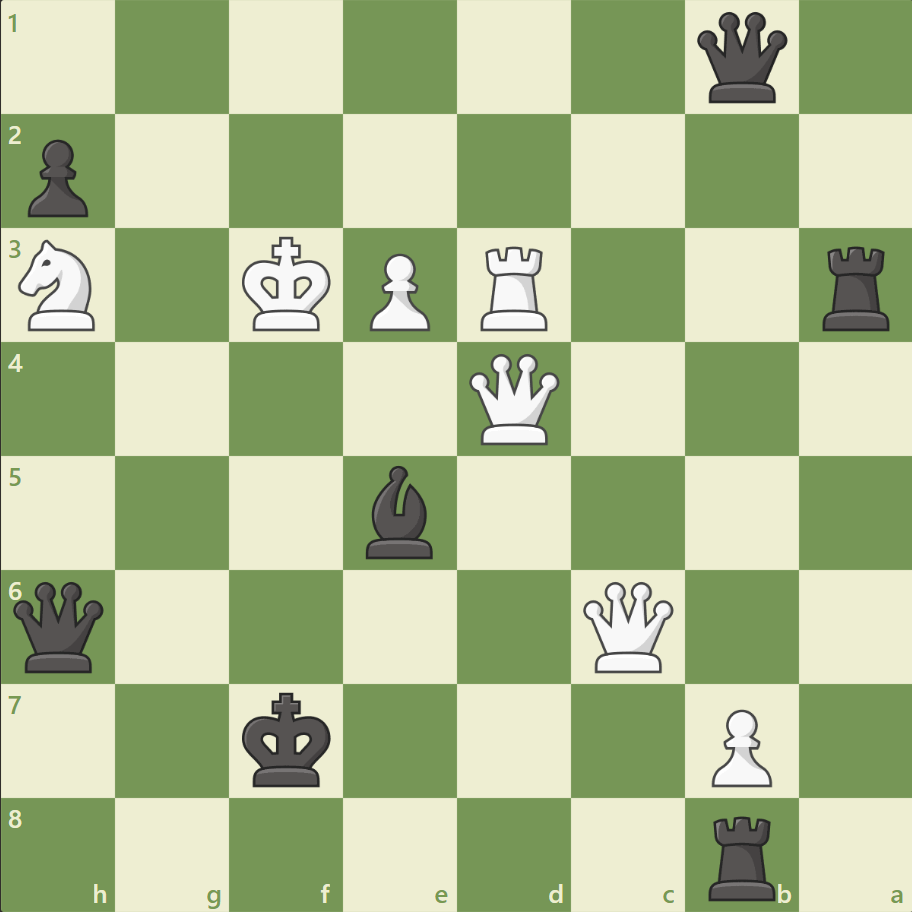K: (238, 231, 338, 339)
N: (11, 234, 108, 337)
P: (701, 700, 776, 791), (361, 246, 435, 337)
Q: (578, 576, 677, 676), (464, 349, 563, 449)
R: (473, 239, 556, 336)
b: (358, 460, 442, 563)
k: (238, 685, 338, 793)
p: (20, 132, 95, 223)
q: (10, 576, 109, 676), (691, 9, 790, 108)
r: (700, 806, 783, 904), (814, 239, 897, 336)
